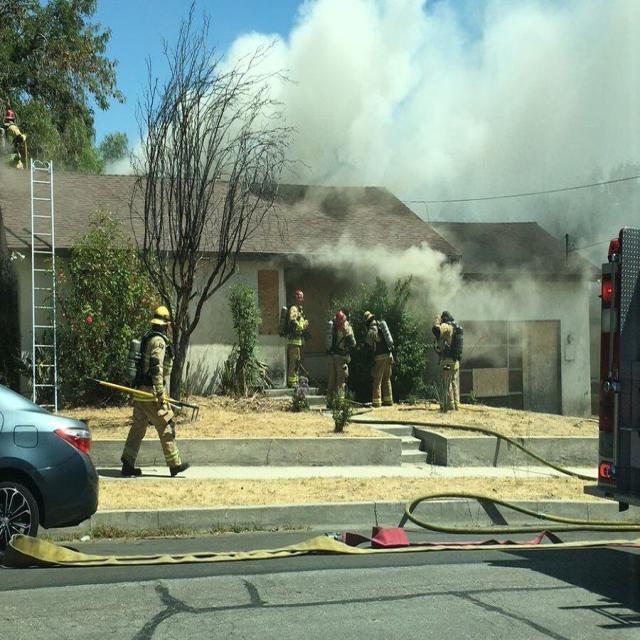Smoke: (306, 228, 592, 346)
